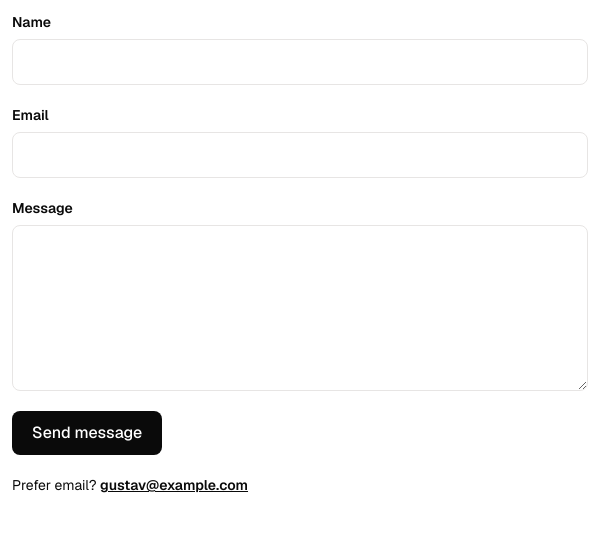
ContactForm › posts the payload to /api/contact with the current locale and shows the success message
In the field labelled "Name": [300, 62] box x1=12 y1=39 x2=588 y2=85, type "Ada Lovelace"
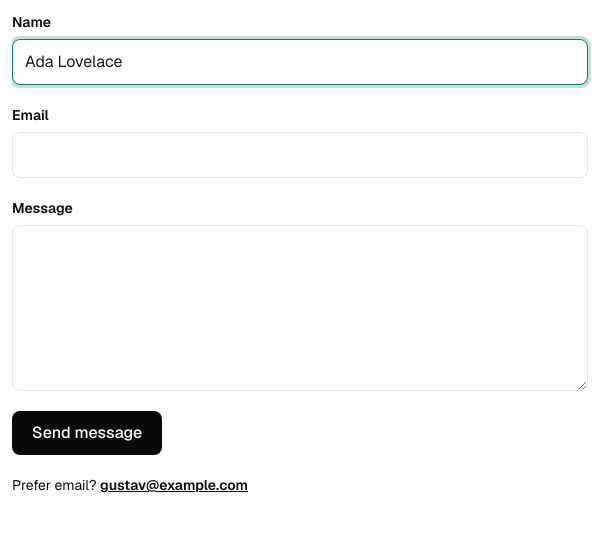
In the field labelled "Email": [300, 155] box x1=12 y1=132 x2=588 y2=178, type "ada@example.com"
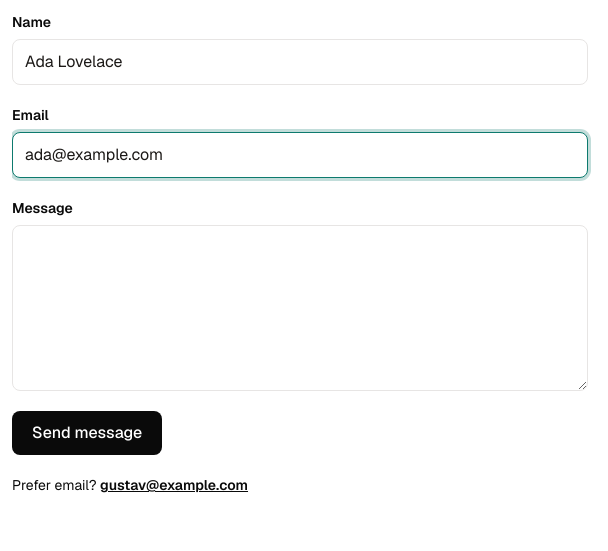
In the text box labelled "Message": [300, 308] box x1=12 y1=225 x2=588 y2=391, type "Hej!"
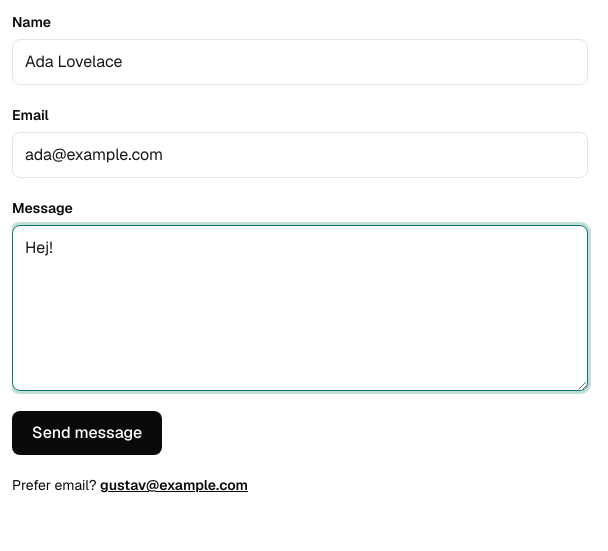
Click the button "Send message": [87, 433] box x1=12 y1=411 x2=162 y2=455
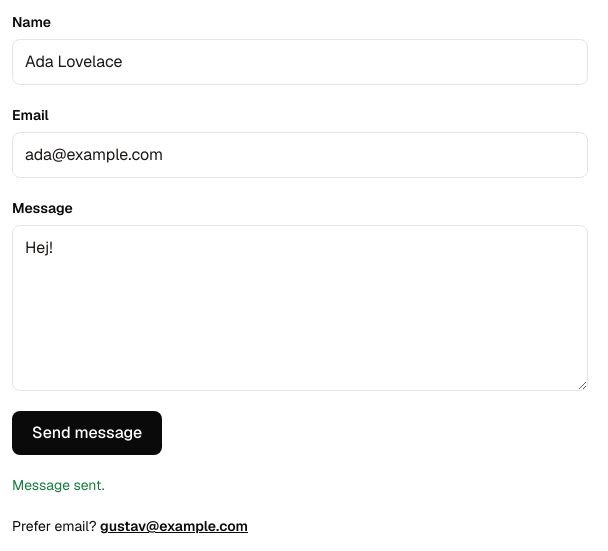
Result: the text "Message sent." is shown at x1=12 y1=476 x2=105 y2=494
